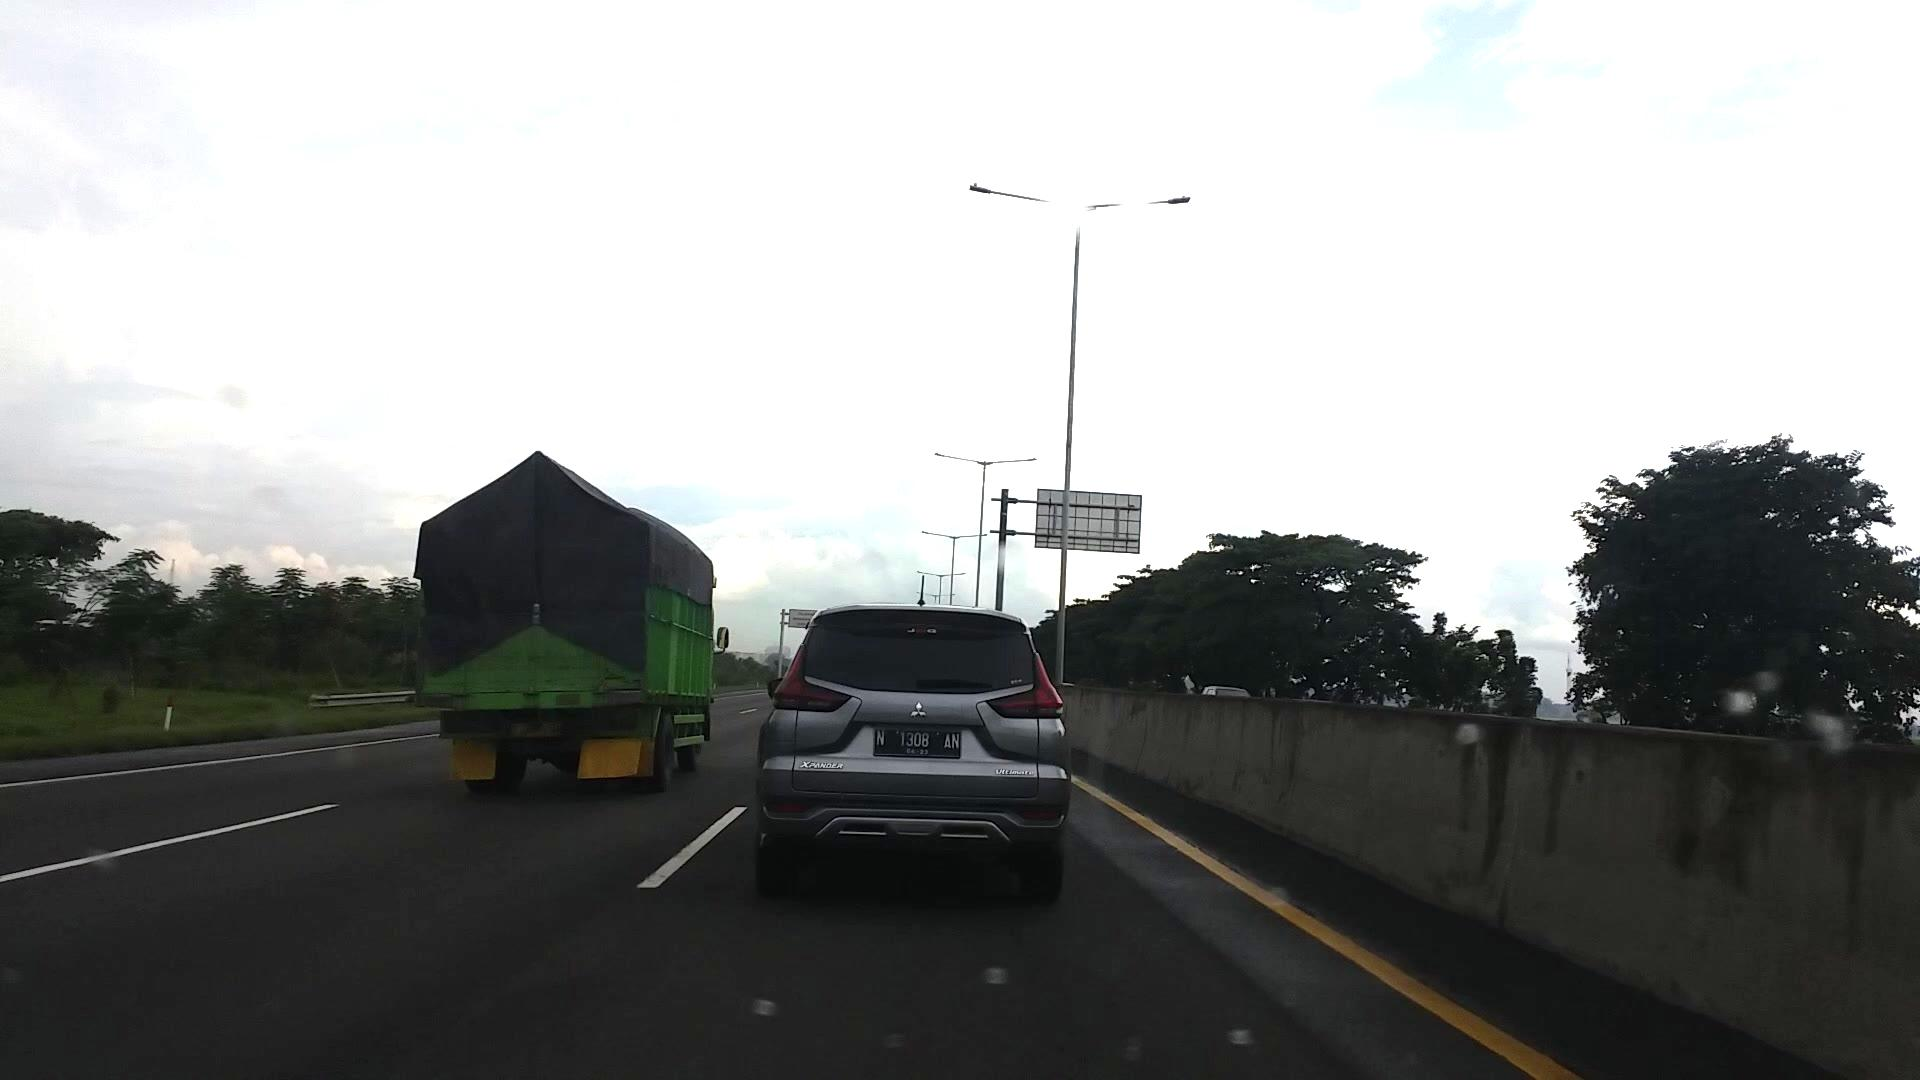plate_positive: (873, 725, 961, 760)
